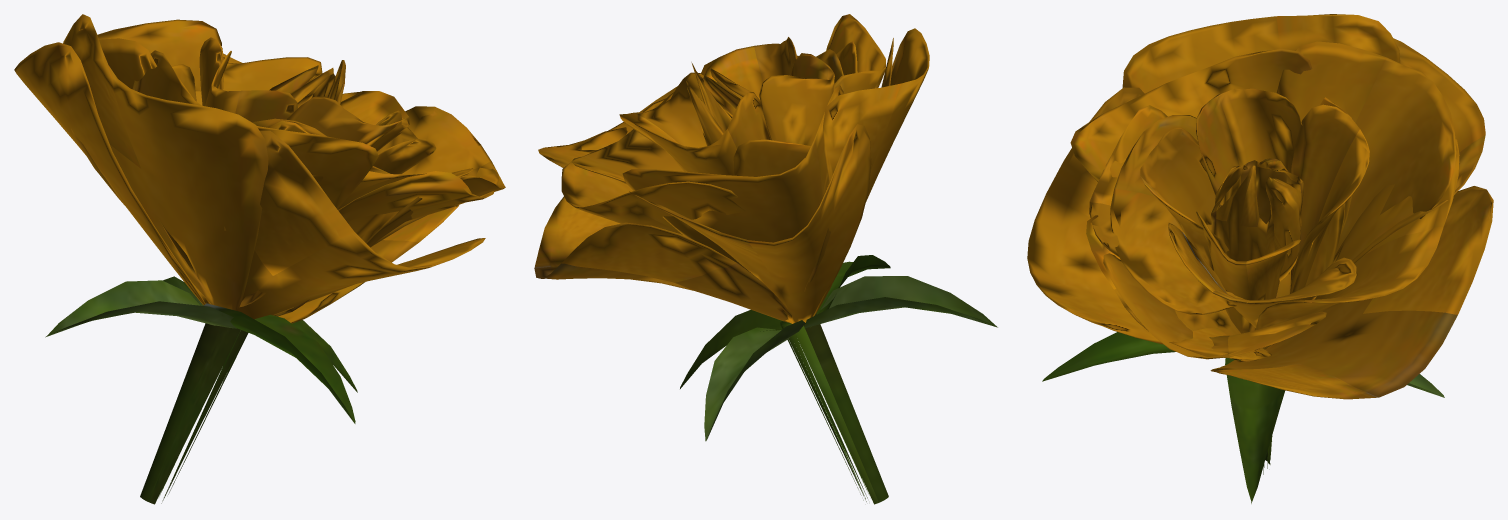
The picture shows the model from 3 angles, left to right: view 1: azimuth 30°, elevation 25°; view 2: azimuth 150°, elevation 25°; view 3: azimuth 270°, elevation 25°; orthographic projection.
Visible parts, largest first — view 1: a79bb30f; view 2: a79bb30f; view 3: a79bb30f.
Part boxes in pixels (x1,y1,x2,y2): a79bb30f: (14,14,505,504); a79bb30f: (534,14,997,504); a79bb30f: (1027,14,1493,503).
Bounding box in the file's own units: 0.0938 × 0.092 × 0.086.
Materials: 2 (2 with a texture image).
